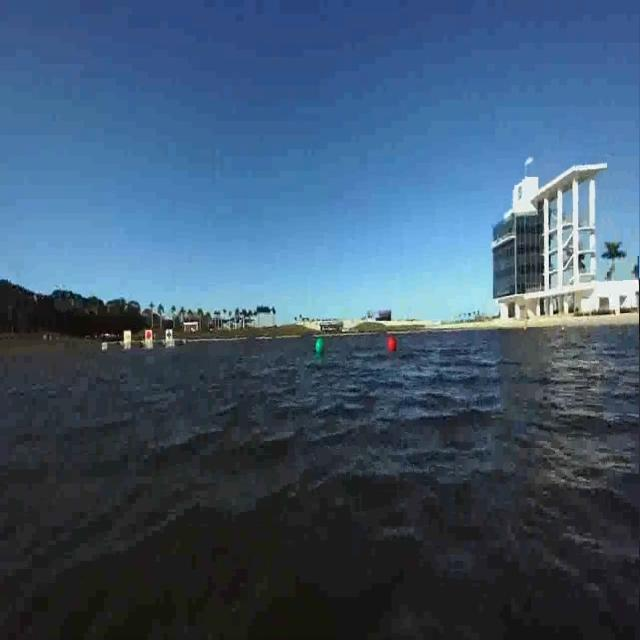green-buoy: (314, 336, 325, 354)
red-column-buoy: (385, 336, 395, 355)
